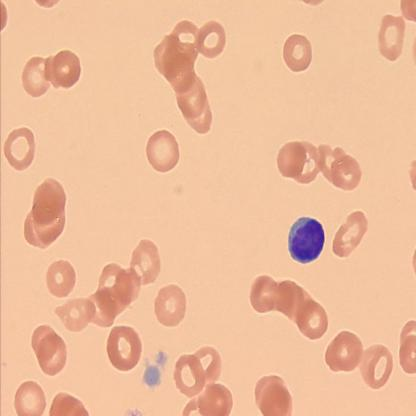Lymphocyte: (287, 215, 324, 265)
